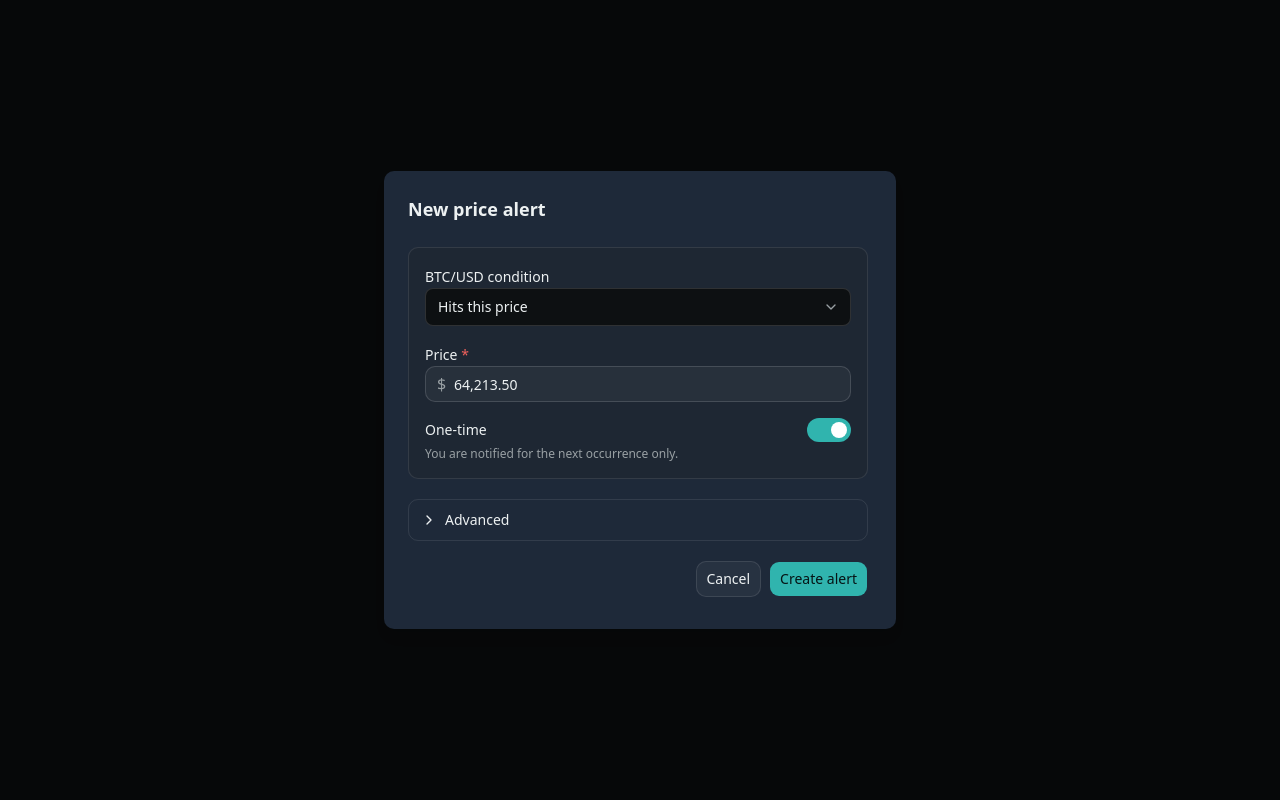
Scenario: PriceAlertForm › folds the optional settings behind Advanced
The image size is (1280, 800).
Expected: the field labelled "Price *" is shown, left=425, top=366, right=851, bottom=402
Expected: the switch named "One-time" is shown, left=807, top=418, right=851, bottom=442
Click the button "Advanced": (477,520) left=409, top=500, right=867, bottom=540
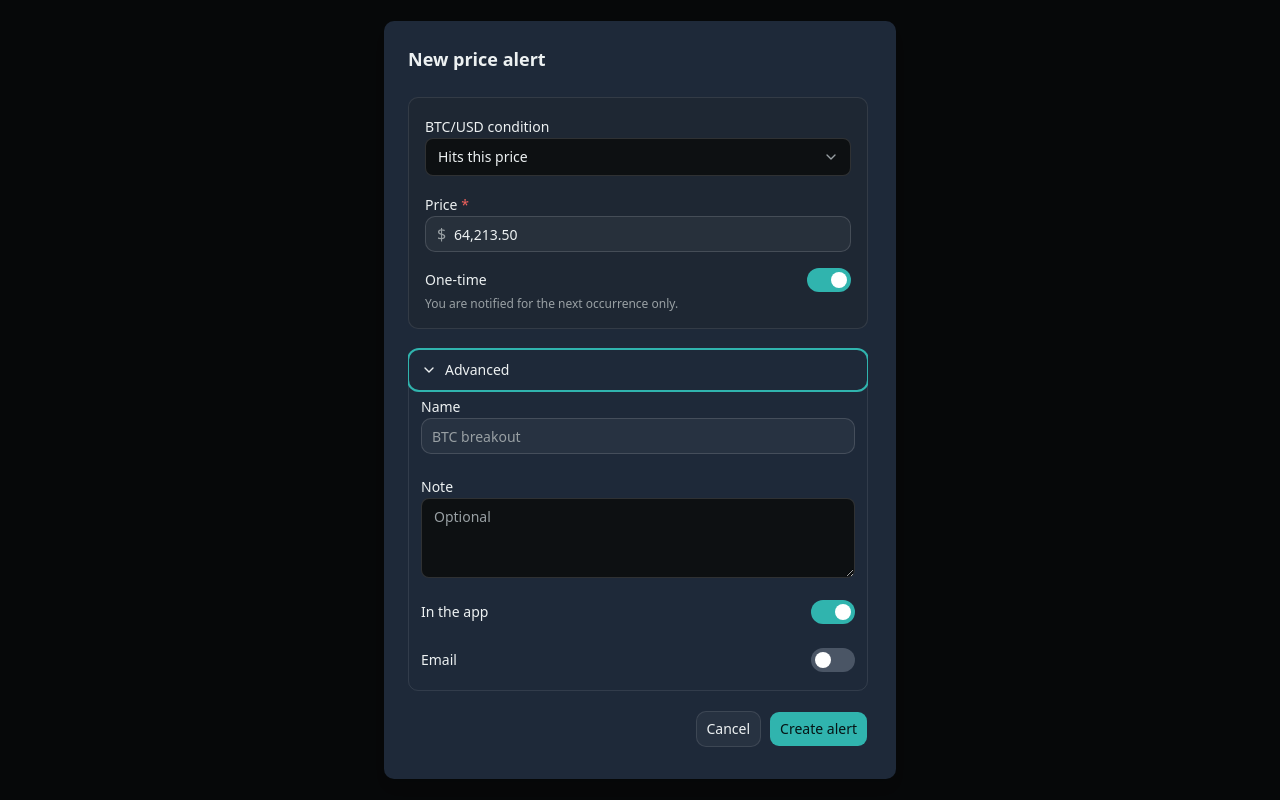
Now the field labelled "Name" is shown, box left=421, top=418, right=855, bottom=454
Now the text box labelled "Note" is shown, box left=421, top=498, right=855, bottom=578
Now the switch named "In the app" in the row of "In the app" is shown, box left=811, top=600, right=855, bottom=624
